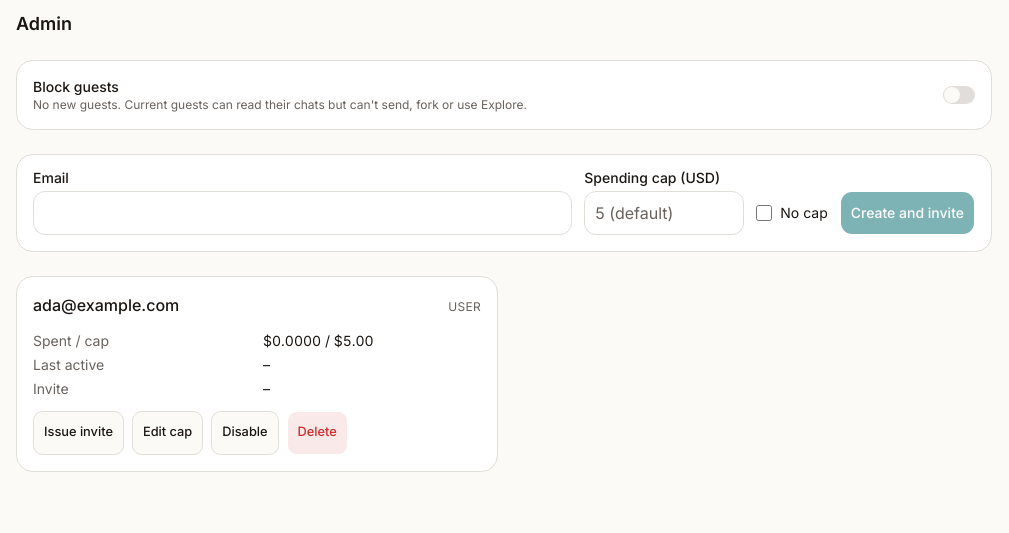
Test case: AdminConsole on a dead network › a create whose fetch rejects says so and frees the form
The width and height of the screenshot is (1009, 533).
Type "new@example.com" into the field labelled "Email".
click(303, 213); type("new@example.com")  # box x1=33 y1=191 x2=572 y2=235
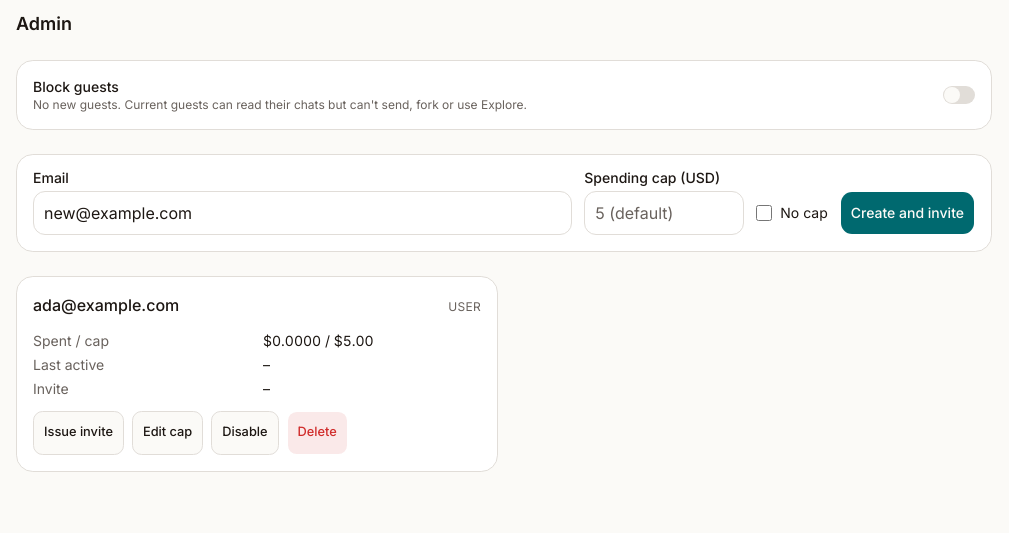
Click the button "Create and invite".
click(907, 213)  # box x1=840 y1=191 x2=975 y2=235
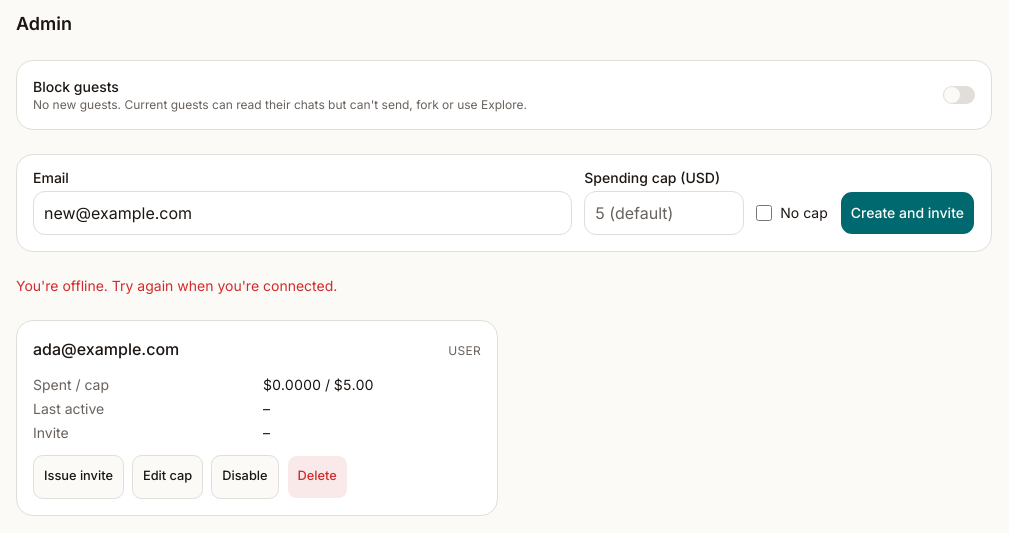
Check: the button "Issue invite" is enabled, box x1=33 y1=455 x2=124 y2=499
Check: the button "Create and invite" is enabled, box x1=840 y1=191 x2=975 y2=235
Check: the message reads "You're offline. Try again when you're connected.", box x1=16 y1=277 x2=337 y2=294
